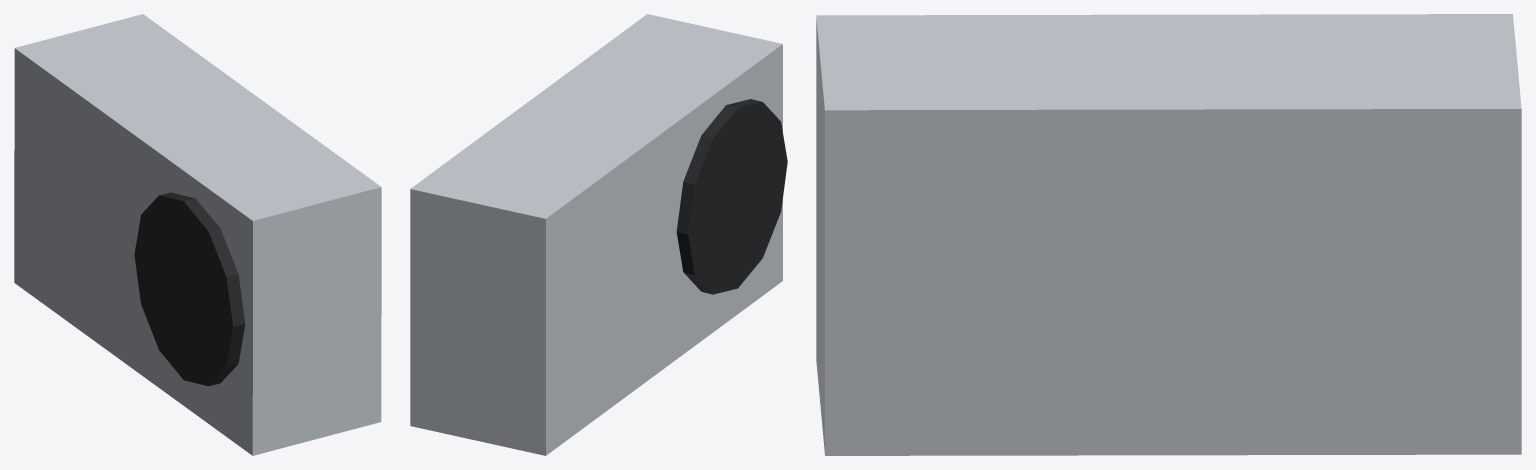
The model's file is cond.fbx.
3 renders of one model, left to right at view 1: azimuth 30°, elevation 25°; view 2: azimuth 150°, elevation 25°; view 3: azimuth 270°, elevation 25°, orthographic. The views are drawn at different scales.
Visible parts, largest first — view 1: polySurface451; view 2: polySurface451; view 3: polySurface451.
Part boxes in pixels (left/top/right/bottom): polySurface451: left=14, top=14, right=381, bottom=455; polySurface451: left=410, top=14, right=787, bottom=455; polySurface451: left=816, top=14, right=1521, bottom=455.
Size of the model in its own units: 0.1949 by 0.3048 by 0.5627.
